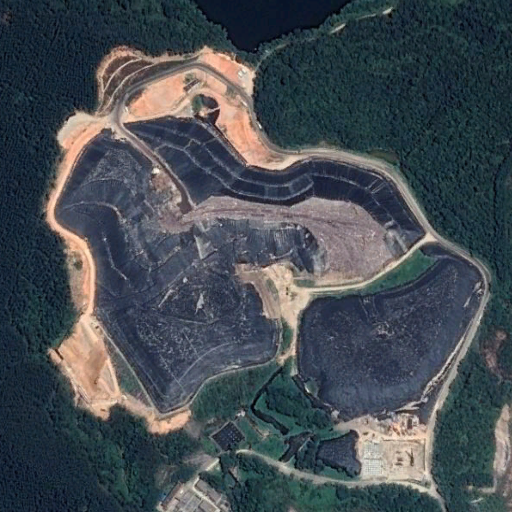lf: (52, 95, 486, 418)
